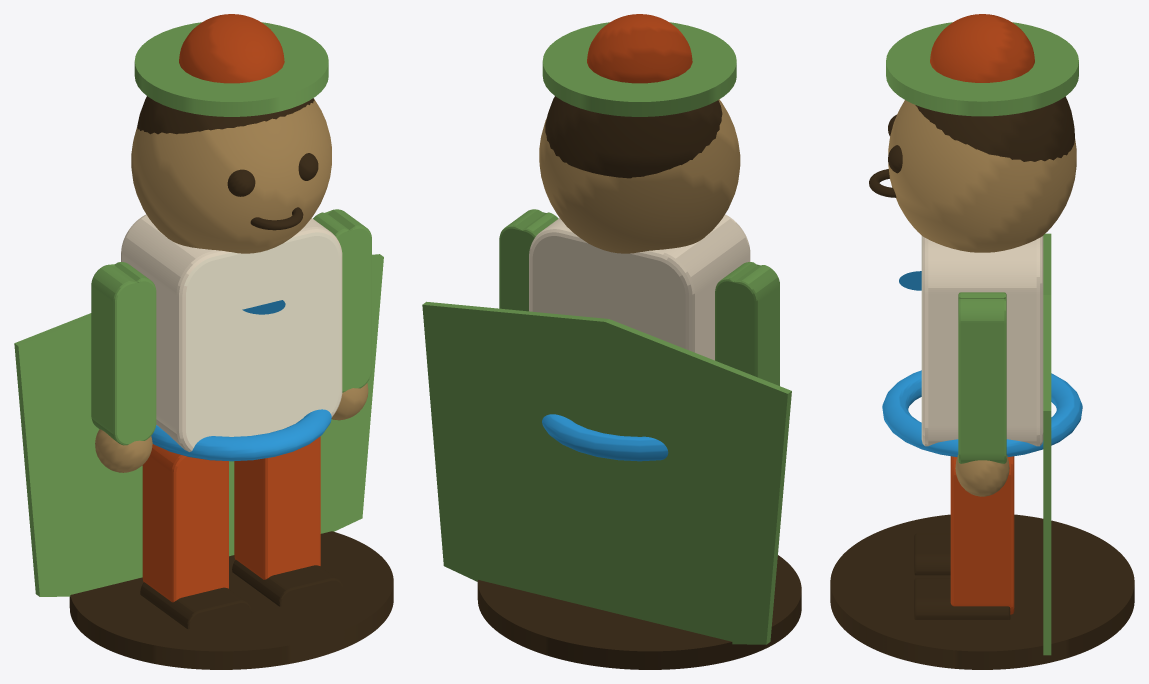
The model's file is 0715_《史记》_秦王佩剑.glb.
The picture shows the model from 3 angles, left to right: view 1: azimuth 30°, elevation 25°; view 2: azimuth 150°, elevation 25°; view 3: azimuth 270°, elevation 25°; orthographic projection.
Visible parts, largest first — view 1: card_0715; view 2: card_0715; view 3: card_0715.
Part boxes in pixels (<box>): card_0715: <box>14,14,393,669</box>; card_0715: <box>422,14,801,669</box>; card_0715: <box>830,14,1134,669</box>.
Bounding box in the file's own units: 0.6405 × 1 × 0.4641.
